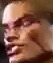kevin: (0, 1, 46, 62)
